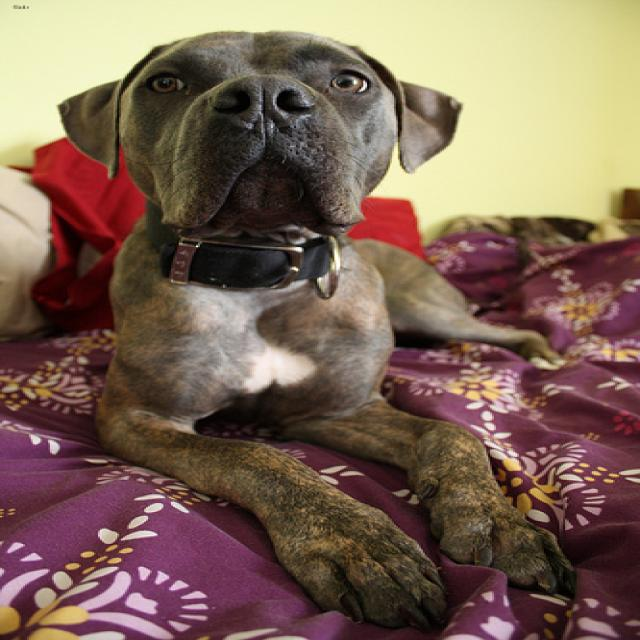dog-american_pit_bull_terrier: (35, 24, 588, 637)
